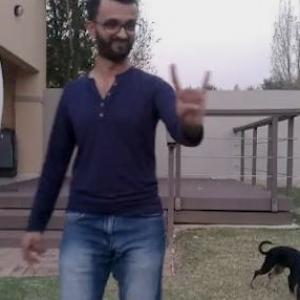takeoff-hand: (167, 57, 216, 129)
